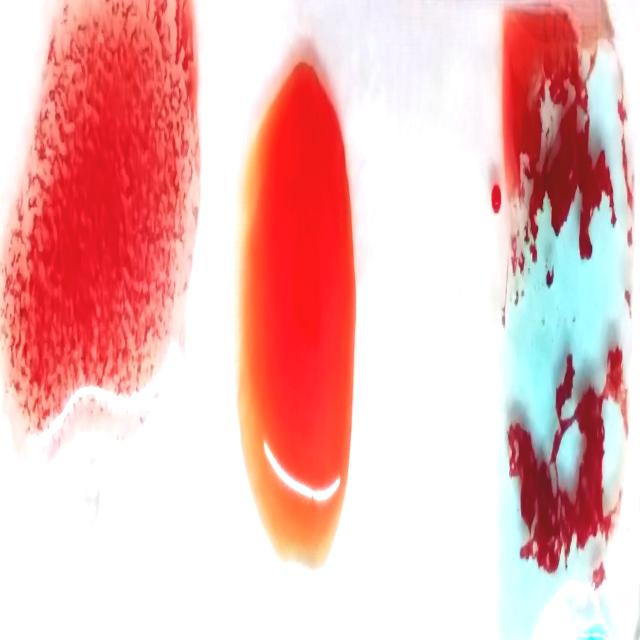A: (493, 0, 633, 638)
D: (2, 0, 195, 448)
